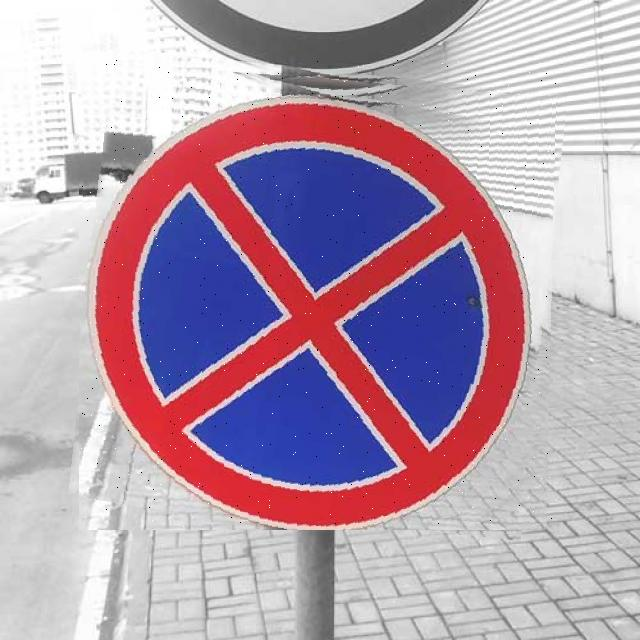no stopping: (79, 59, 556, 530)
